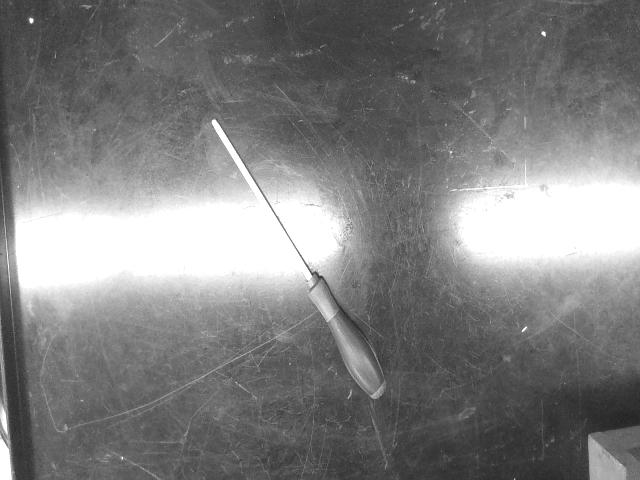Screwdriver: (211, 119, 386, 400)
